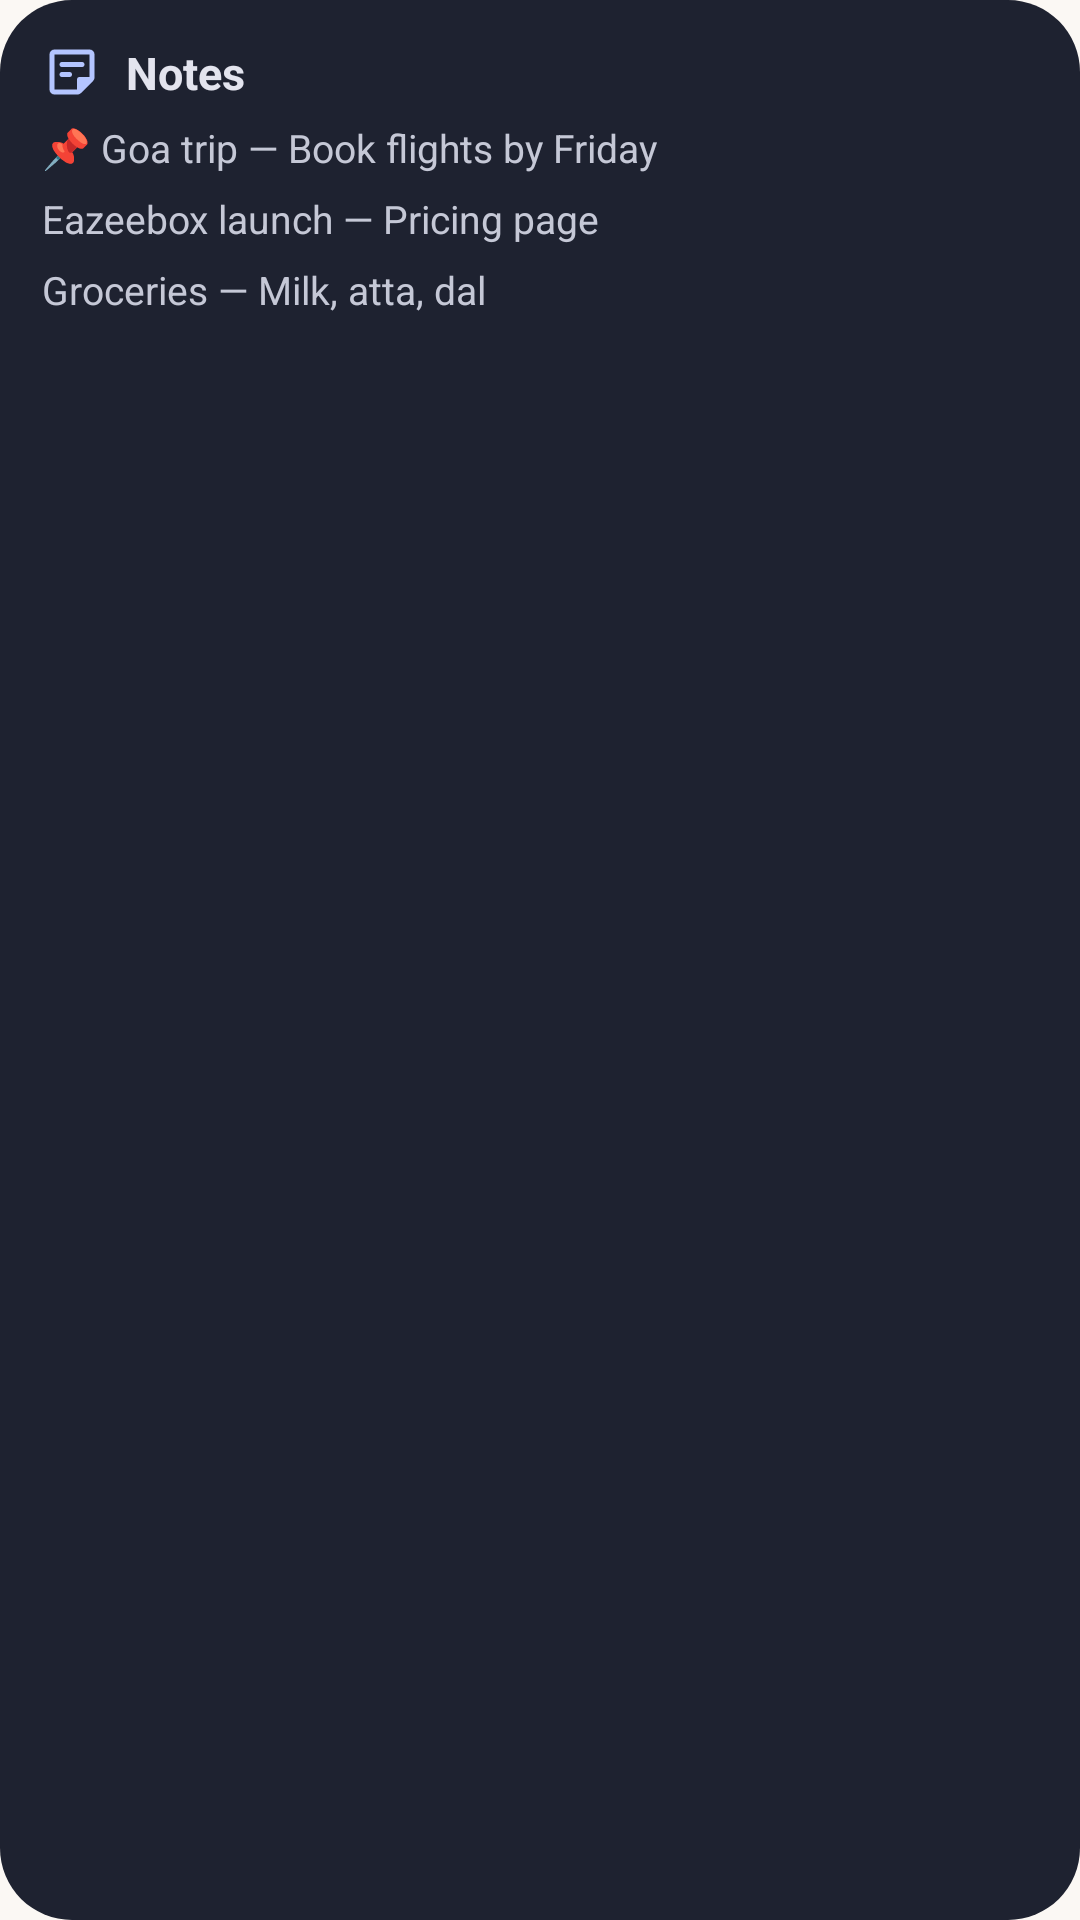

Where to tap for icons on this 1080x1920 app screen, as [x,y]:
sticky note: [72,72]
